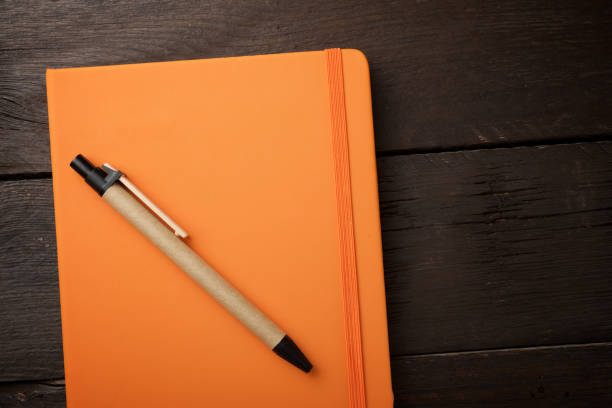pen: (67, 151, 319, 382)
